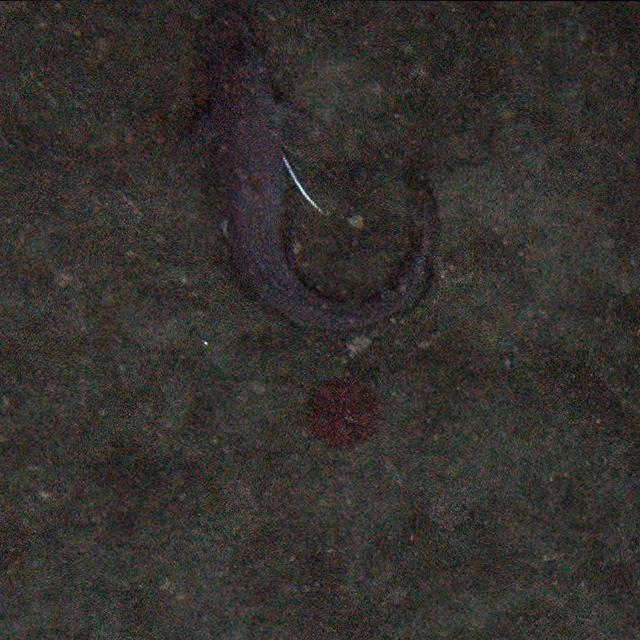roundfish: (189, 11, 439, 337)
